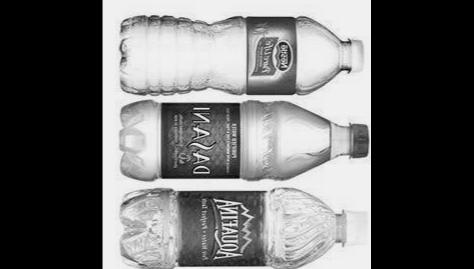bottle: (117, 185, 368, 269), (118, 100, 370, 182), (118, 15, 368, 94)
